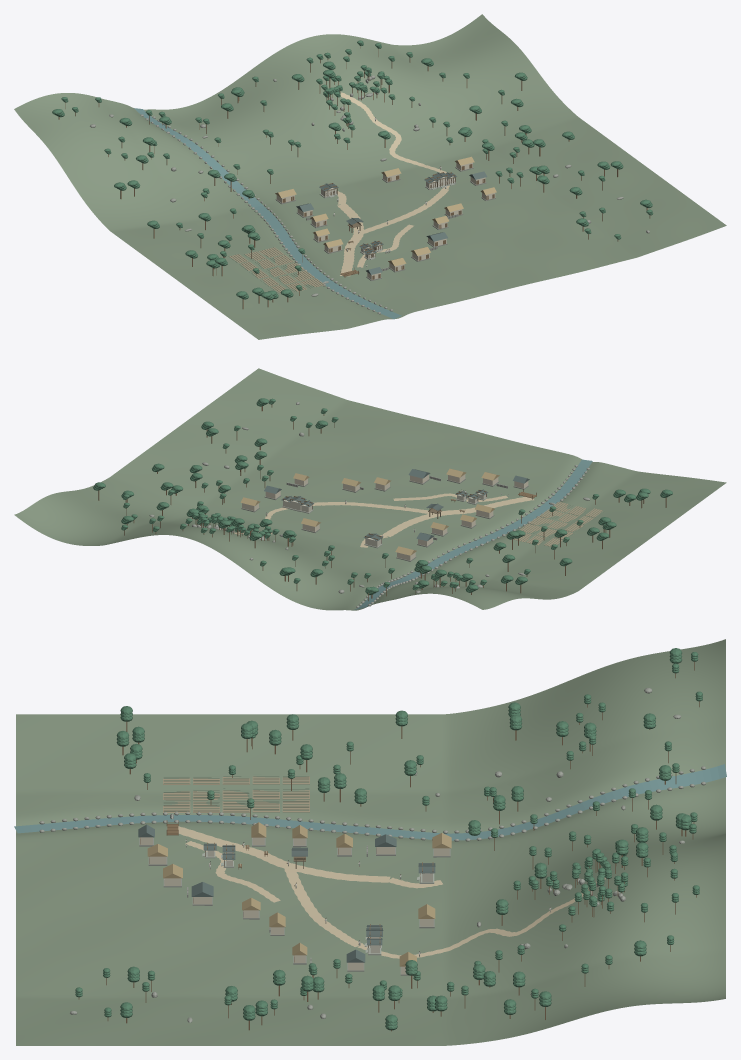
The model's file is blender-village-v029.glb.
3 renders of one model, top to bottom at view 1: azimuth 30°, elevation 25°; view 2: azimuth 150°, elevation 25°; view 3: azimuth 270°, elevation 25°, orthographic. The views are drawn at different scales.
Parts seen in each view (by area): view 1: Continuous sculpted terrain | 210m x 190m, Winding stream | recessed channel, Natural Hill track, Natural Market to gate; view 2: Continuous sculpted terrain | 210m x 190m, Winding stream | recessed channel, Natural Market to gate, Natural Guesthouse lane; view 3: Continuous sculpted terrain | 210m x 190m, Winding stream | recessed channel, Natural Market to gate, Natural Guesthouse lane, Natural Hill track.
Part boxes in pixels (x1,y1,x2,y2): Continuous sculpted terrain | 210m x 190m: (14,14,726,339); Winding stream | recessed channel: (134,108,401,319); Natural Hill track: (340,92,449,189); Natural Market to gate: (337,204,364,276); Continuous sculpted terrain | 210m x 190m: (14,368,726,610); Winding stream | recessed channel: (353,459,592,610); Natural Market to gate: (382,496,533,536); Natural Guesthouse lane: (312,502,438,515); Continuous sculpted terrain | 210m x 190m: (16,639,725,1045); Winding stream | recessed channel: (14,764,726,840); Natural Market to gate: (178,826,390,882); Natural Guesthouse lane: (283,865,363,946); Natural Hill track: (357,877,606,958).
Size of the model in its own units: 210 by 32.64 by 191.
